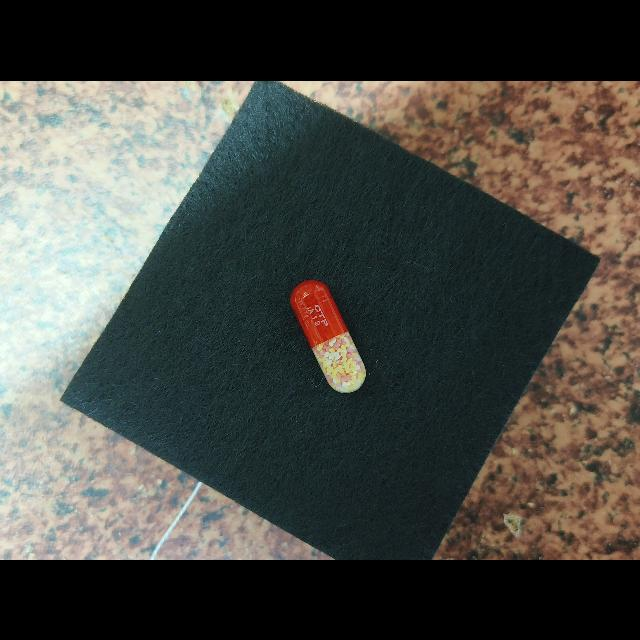Intact Capsule: (290, 279, 366, 393)
